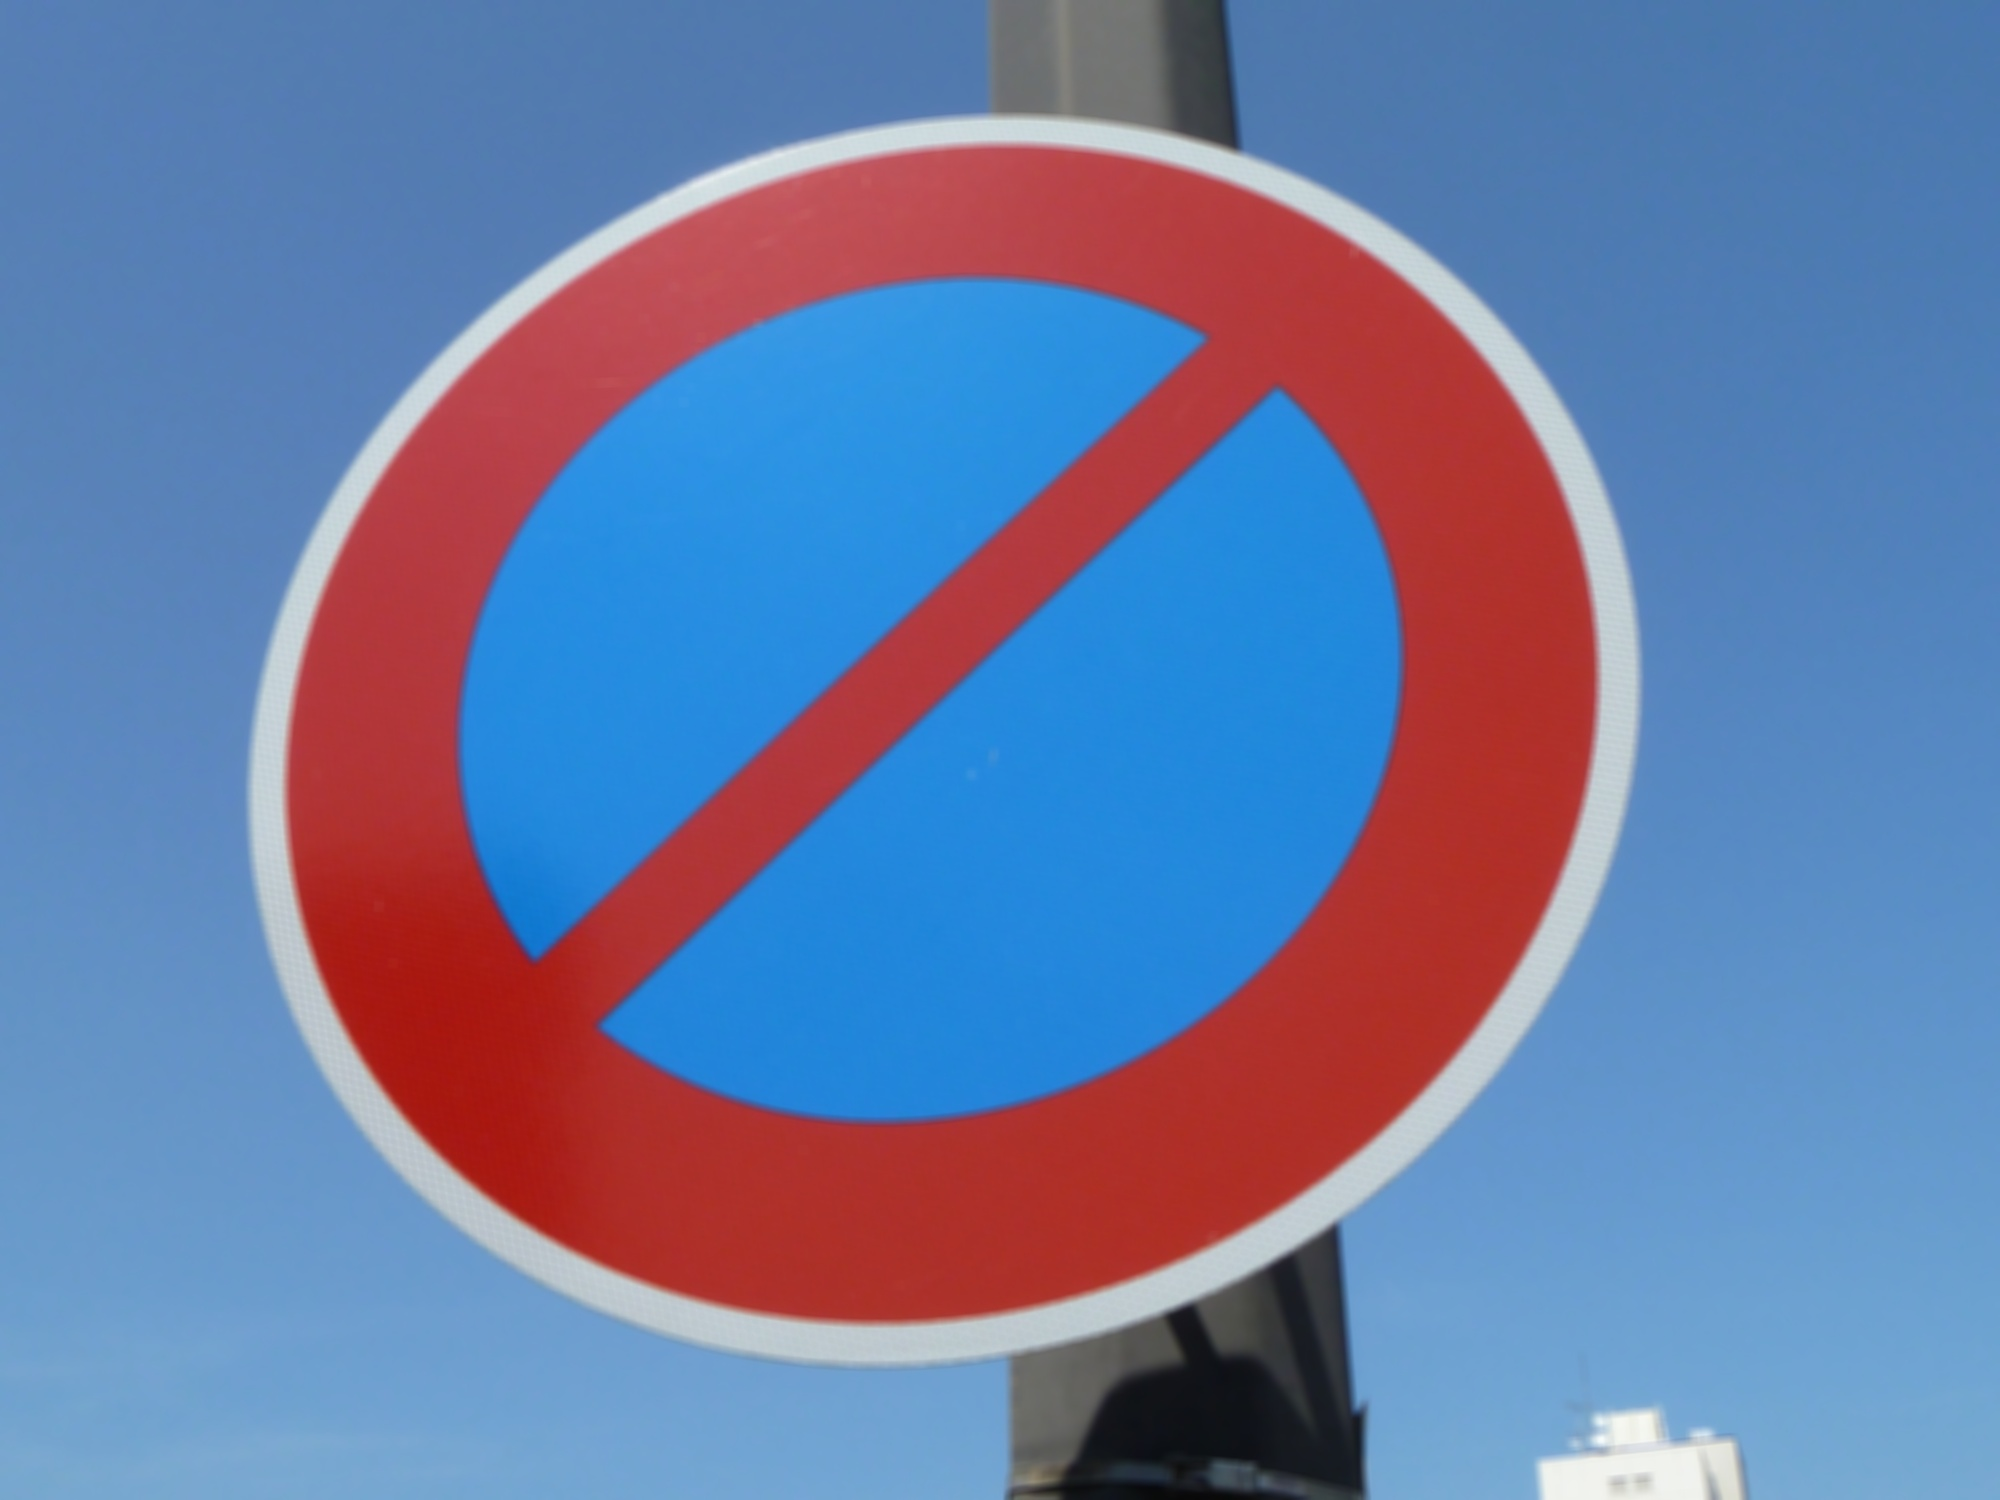Prohibition_sign: (206, 61, 1702, 1339)
